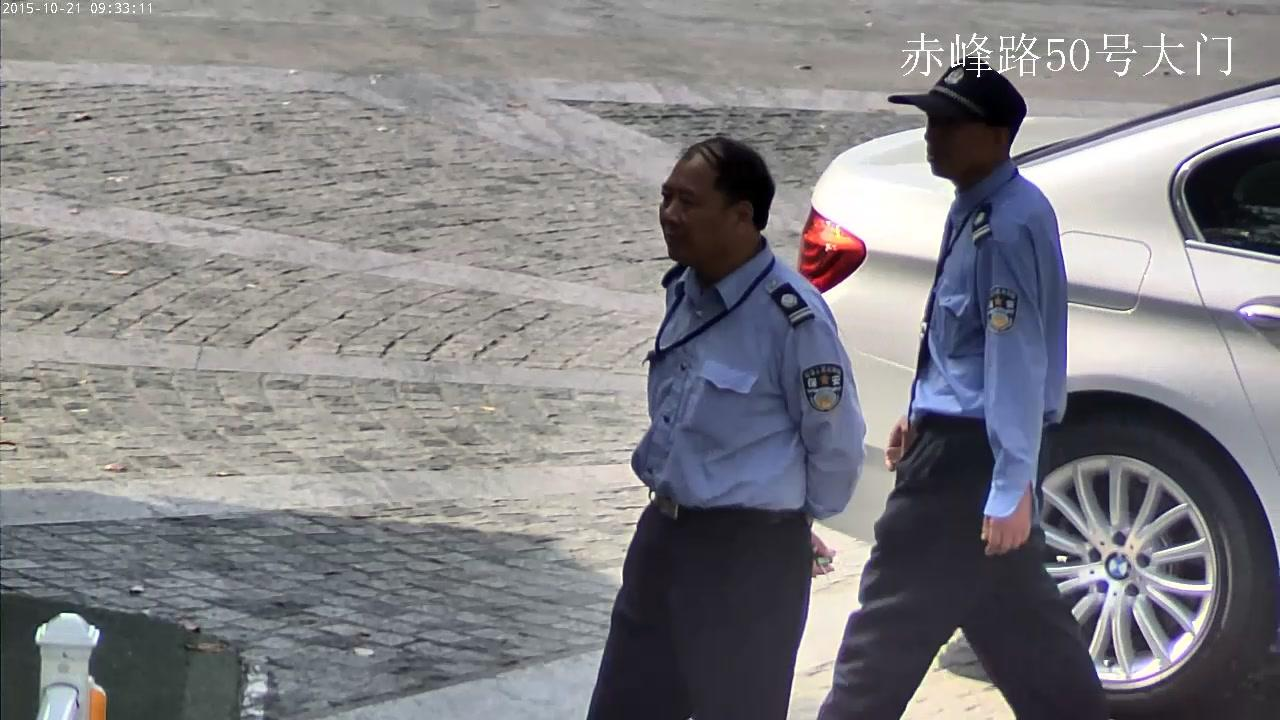face: (659, 149, 737, 261), (924, 114, 993, 176)
